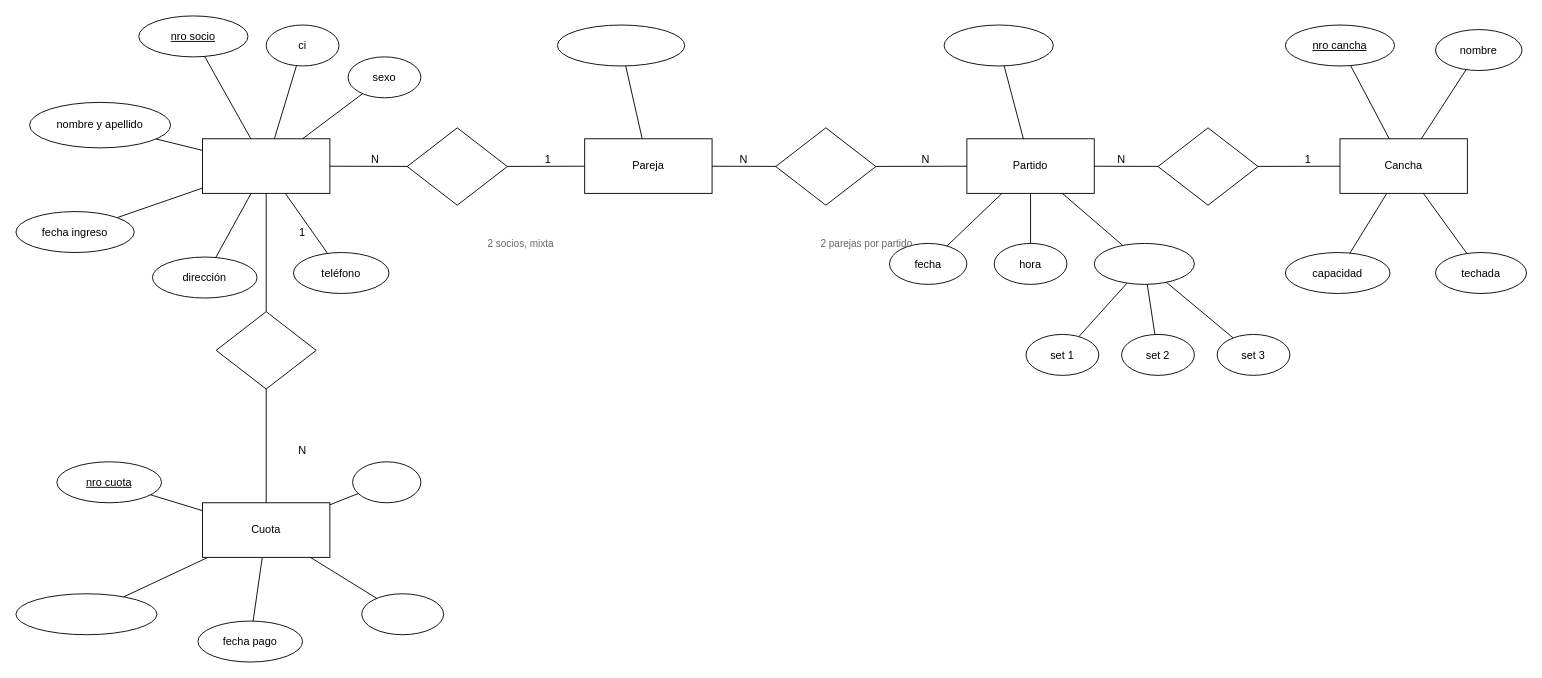
This 1542x678 diagram has some shape labels left out. Here are the shapes that lost their labels. From the top down, the centre of each, then its label:
(x=620, y=45): nombre pareja
(x=998, y=45): id partido
(x=266, y=165): Socio
(x=456, y=166): integra
(x=825, y=166): disputa
(x=1207, y=166): utiliza
(x=1143, y=263): resultado
(x=265, y=350): paga
(x=386, y=482): mes
(x=86, y=614): fecha vencimiento
(x=402, y=614): monto
